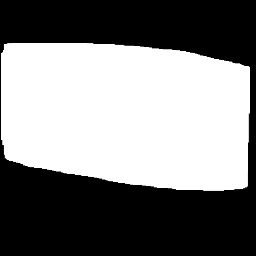mass: (4, 31, 252, 202)
